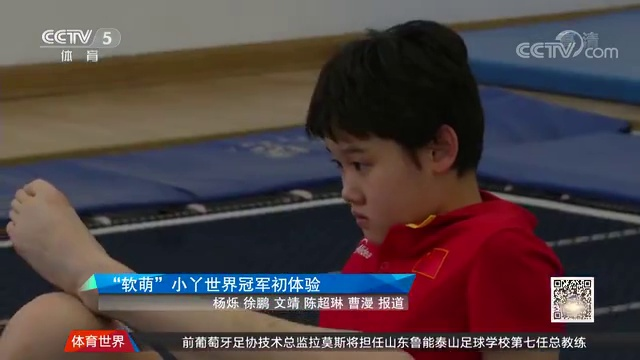face: (326, 136, 435, 242)
